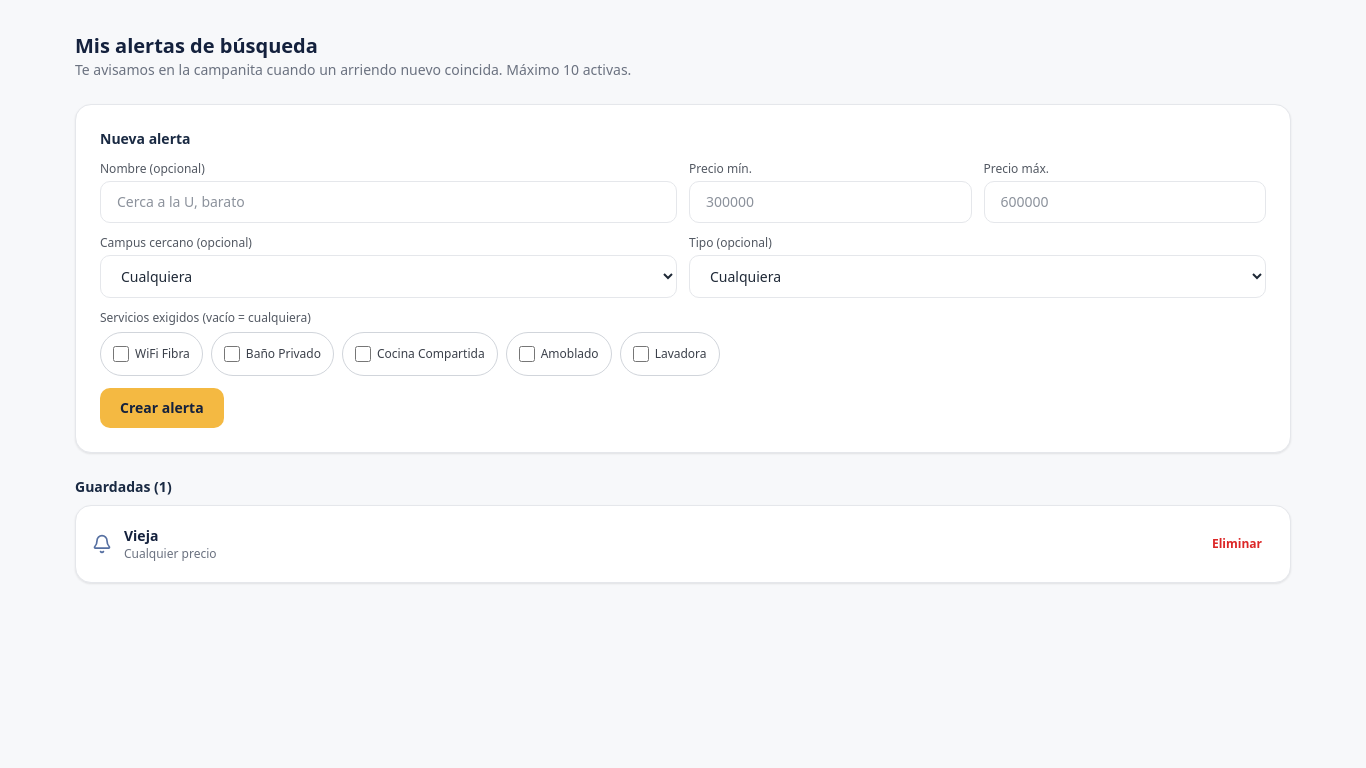
Test case: Alertas (Fase 3) › eliminar pide confirmación y quita de la lista
expect the text "Vieja" is shown: met, box [124, 526, 158, 545]
Click the button with aria-label "Eliminar alerta" at (1237, 544), box [1200, 522, 1274, 566]
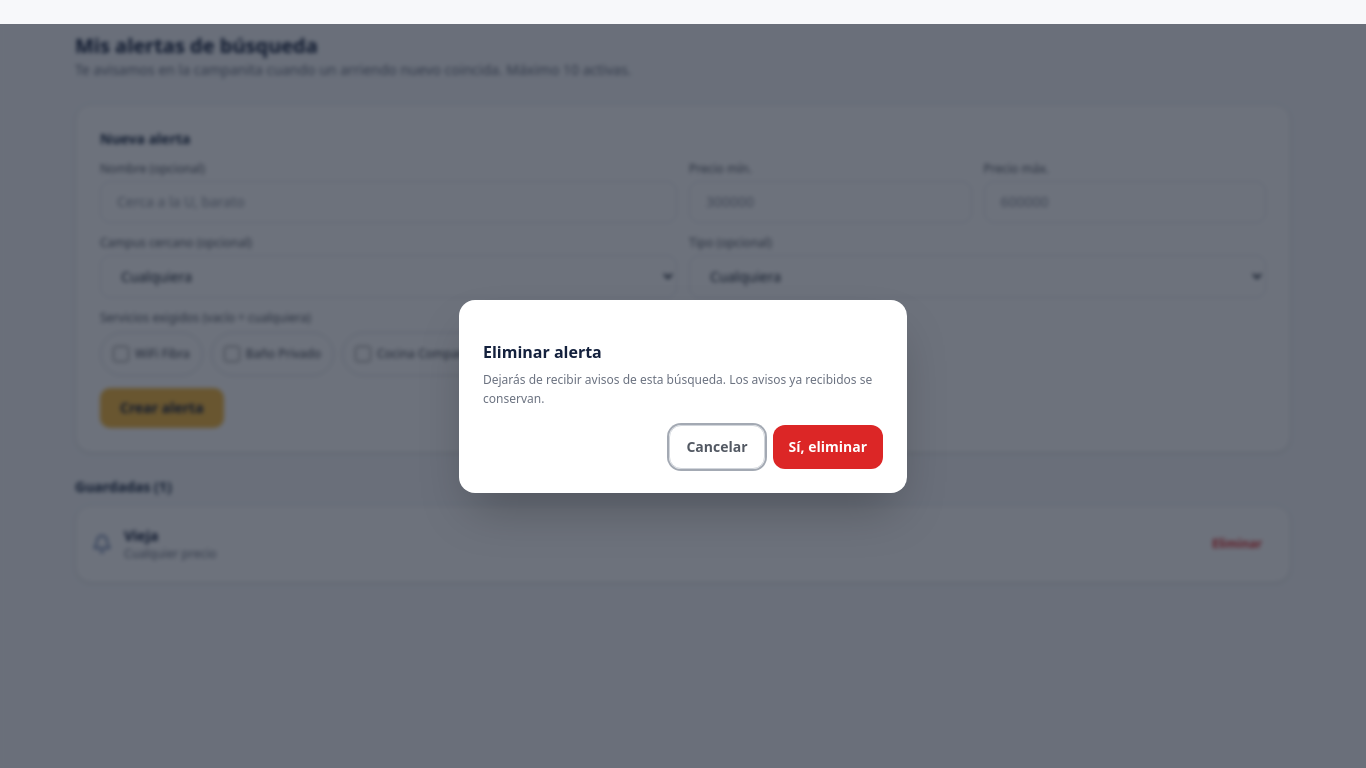
expect the dialog "Eliminar alerta" is shown: met
Click the button "Sí, eliminar" at (828, 446), box [772, 424, 883, 468]
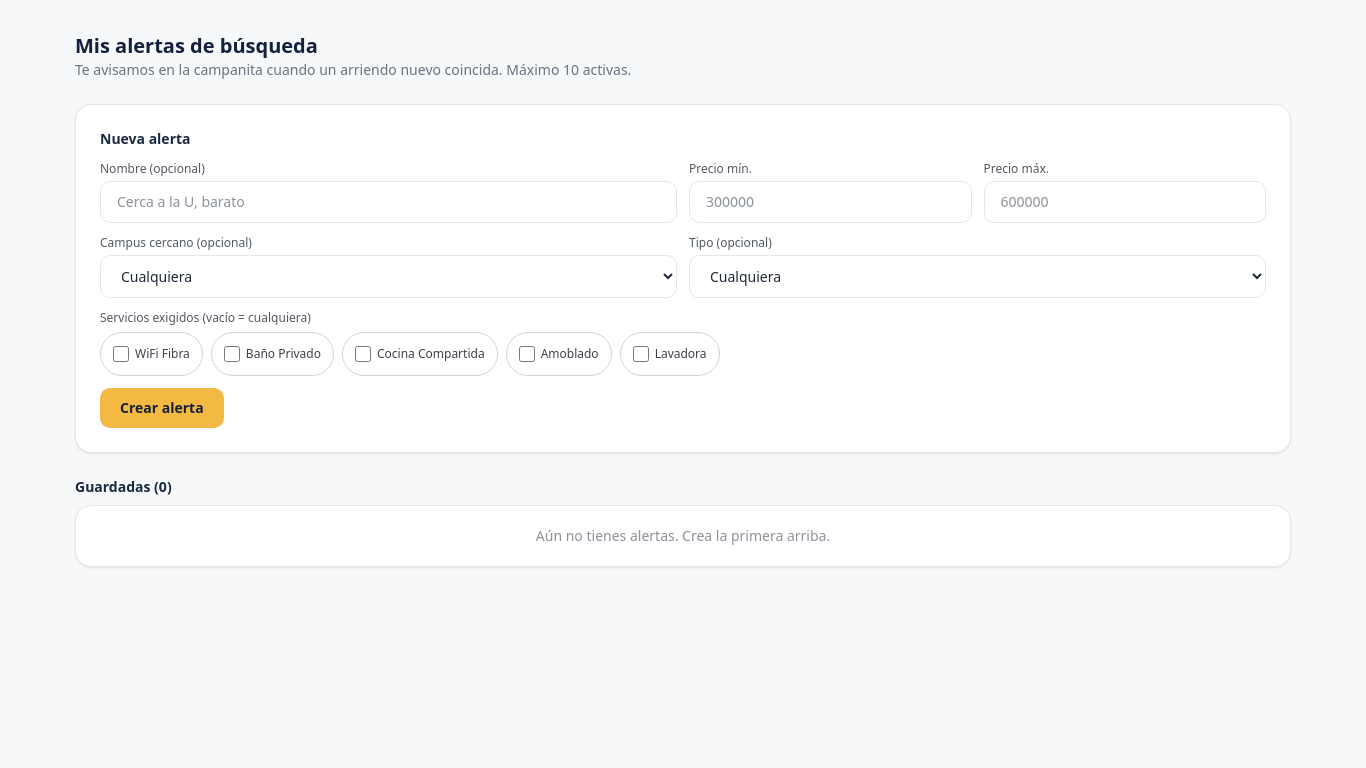
expect the text "Vieja" is gone: met
